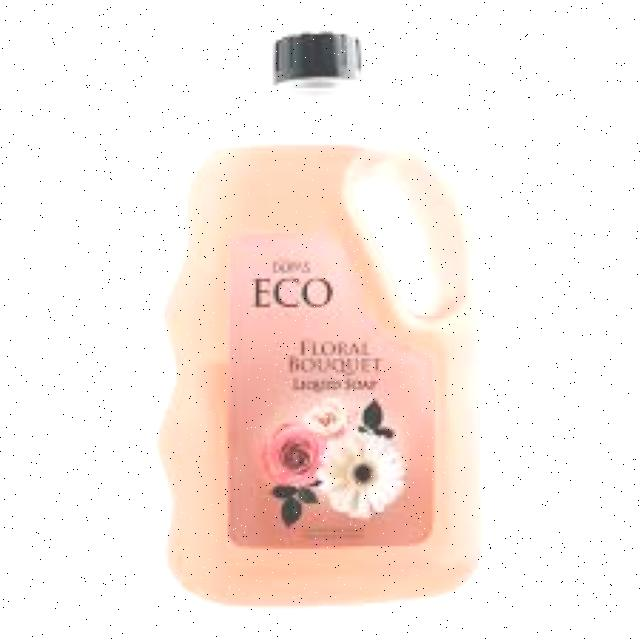liquid soap: (154, 24, 492, 612)
